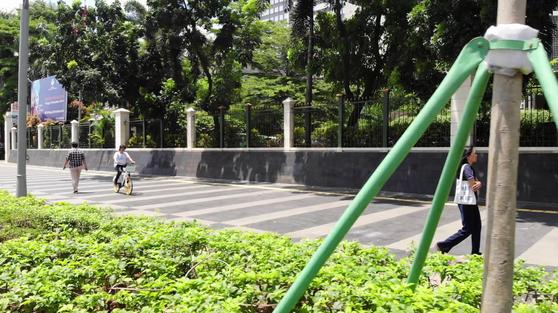bike: (108, 161, 142, 201)
